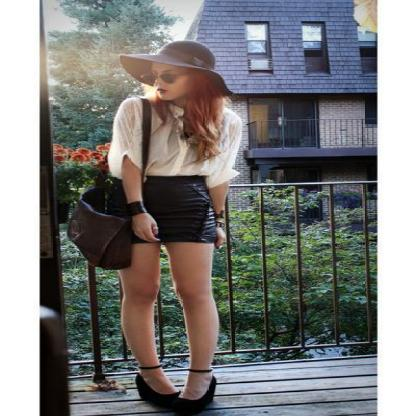bag: (65, 141, 153, 270)
hat: (120, 42, 214, 88)
shirt: (105, 98, 239, 186)
shoe: (124, 367, 236, 415)
skirt: (141, 175, 214, 242)
